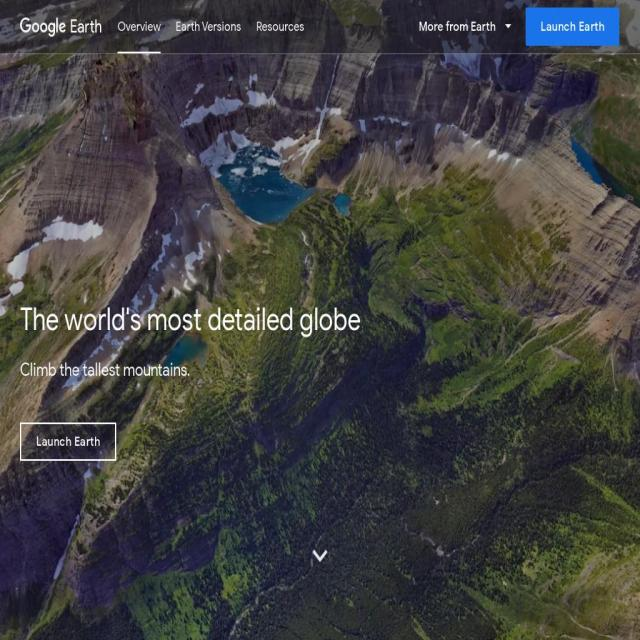button: (20, 422, 116, 461), (526, 7, 620, 46), (20, 16, 102, 36)
image: (0, 0, 632, 632), (20, 16, 102, 36)
link: (176, 17, 241, 35), (256, 17, 304, 35), (118, 17, 160, 35)
text: (20, 300, 361, 338), (20, 357, 190, 382), (418, 15, 516, 37), (540, 16, 604, 36), (36, 432, 100, 451)
